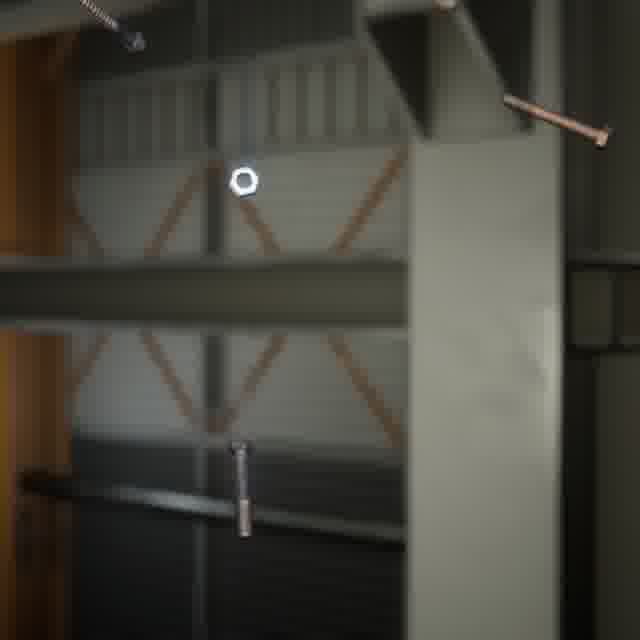bolt: (498, 88, 619, 157), (72, 0, 150, 59), (222, 434, 258, 543)
nut: (224, 161, 264, 201)
